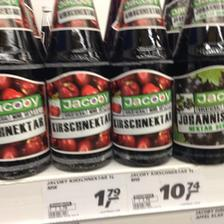Saft: (44, 1, 114, 172), (106, 0, 174, 166), (0, 0, 48, 180), (171, 0, 223, 166)
